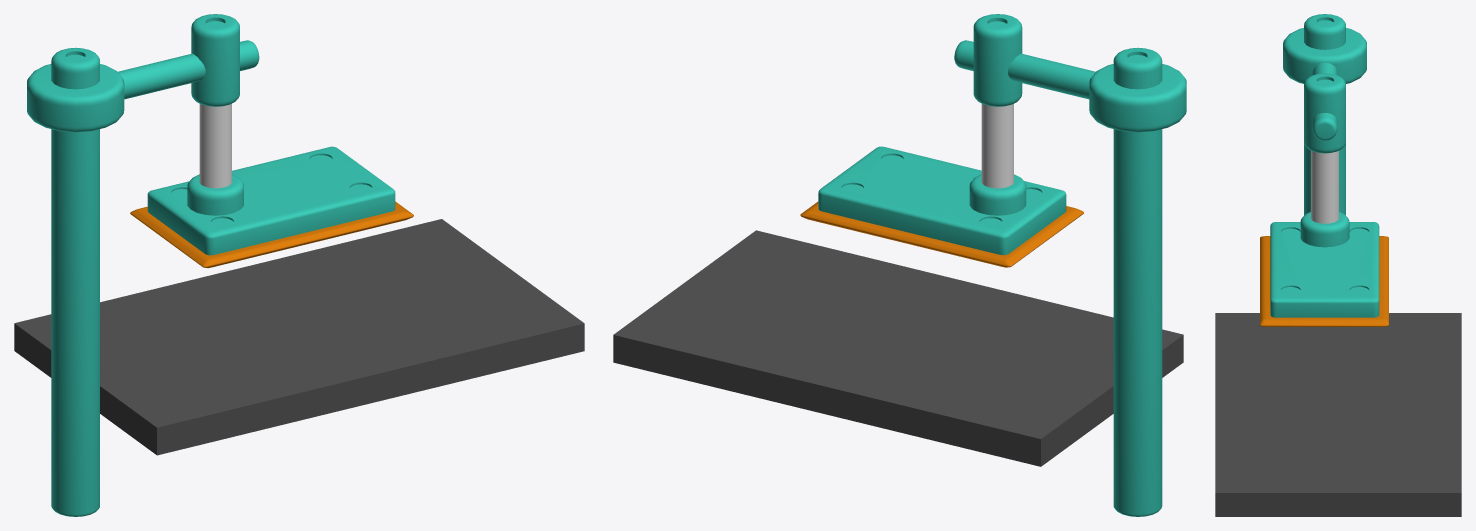
Rendered from dough_roller.FBX.
3 renders of one model, left to right at view 1: azimuth 30°, elevation 25°; view 2: azimuth 150°, elevation 25°; view 3: azimuth 270°, elevation 25°, orthographic. The views are drawn at different scales.
Parts seen in each view (by area): view 1: Base, diamond_machine02, diamond_machine00, diamond_machine04, diamond_machine03, diamond_machine01, diamond_machine05, diamond_machine07, diamond_machine06; view 2: Base, diamond_machine02, diamond_machine00, diamond_machine04, diamond_machine03, diamond_machine01, diamond_machine05, diamond_machine07, diamond_machine06; view 3: Base, diamond_machine00, diamond_machine01, diamond_machine04, diamond_machine03, diamond_machine02, diamond_machine07, diamond_machine06, diamond_machine05.
Boxes of the visible parts, bbox=[...] form: Base: bbox=[14, 219, 584, 455]; diamond_machine02: bbox=[51, 47, 99, 516]; diamond_machine00: bbox=[147, 146, 395, 255]; diamond_machine04: bbox=[27, 64, 124, 132]; diamond_machine03: bbox=[191, 14, 239, 106]; diamond_machine01: bbox=[130, 201, 413, 268]; diamond_machine05: bbox=[118, 40, 259, 99]; diamond_machine07: bbox=[199, 103, 231, 188]; diamond_machine06: bbox=[187, 174, 243, 215]; Base: bbox=[613, 230, 1183, 466]; diamond_machine02: bbox=[1113, 47, 1162, 516]; diamond_machine00: bbox=[818, 146, 1066, 255]; diamond_machine04: bbox=[1089, 64, 1186, 132]; diamond_machine03: bbox=[973, 14, 1022, 106]; diamond_machine01: bbox=[800, 201, 1083, 267]; diamond_machine05: bbox=[954, 40, 1095, 99]; diamond_machine07: bbox=[981, 104, 1013, 188]; diamond_machine06: bbox=[969, 174, 1026, 215]; Base: bbox=[1215, 313, 1461, 516]; diamond_machine00: bbox=[1270, 222, 1379, 317]; diamond_machine01: bbox=[1260, 236, 1388, 326]; diamond_machine04: bbox=[1283, 28, 1366, 83]; diamond_machine03: bbox=[1304, 73, 1345, 153]; diamond_machine02: bbox=[1304, 14, 1345, 215]; diamond_machine07: bbox=[1311, 150, 1338, 223]; diamond_machine06: bbox=[1300, 211, 1349, 247]; diamond_machine05: bbox=[1312, 62, 1337, 140].
Bounding box in the file's own units: 560 × 495 × 284.
